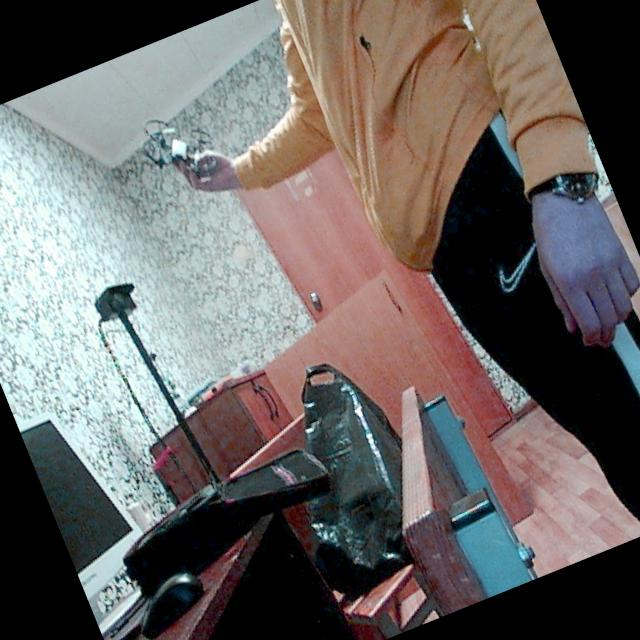drone: (122, 88, 230, 199)
